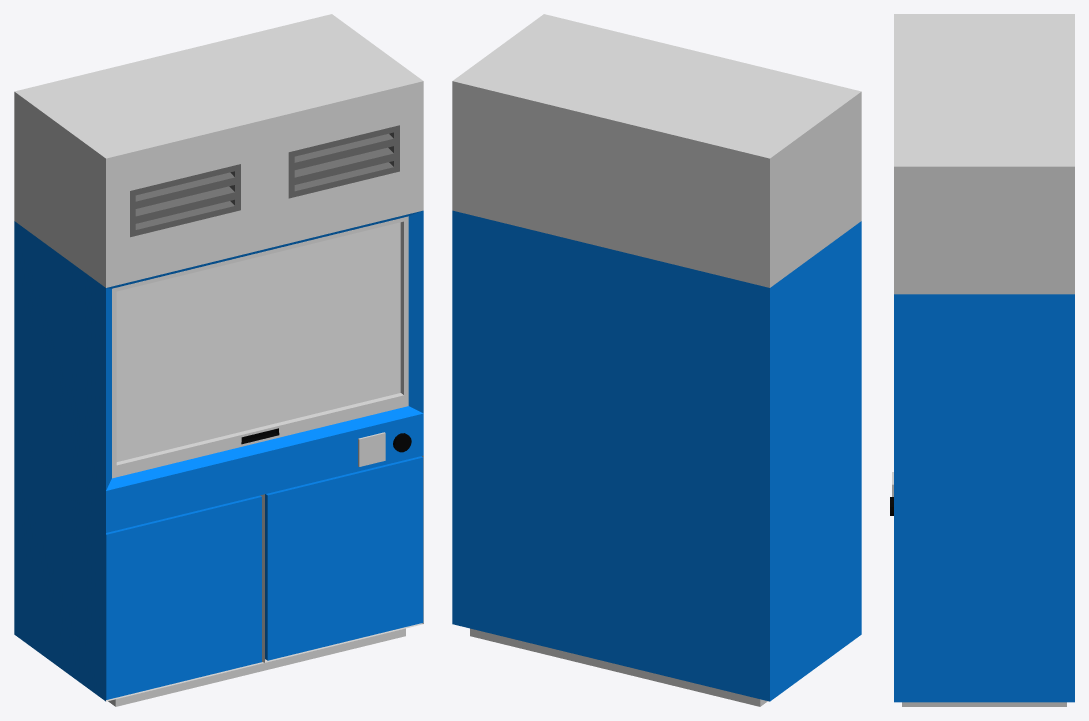
File: fume_room.fbx
The picture shows the model from 3 angles, left to right: view 1: azimuth 30°, elevation 25°; view 2: azimuth 150°, elevation 25°; view 3: azimuth 270°, elevation 25°; orthographic projection.
Parts seen in each view (by area): view 1: Kamar Asam, Kaca Pembatas, Pintu Kanan, Pintu Kiri, Saklar Ruang Asam; view 2: Kamar Asam; view 3: Kamar Asam.
Part boxes in pixels (x1,y1,x2,y2): Kamar Asam: (14, 14, 423, 706); Kaca Pembatas: (112, 216, 408, 478); Pintu Kanan: (265, 456, 423, 660); Pintu Kiri: (106, 495, 261, 699); Saklar Ruang Asam: (358, 432, 385, 466); Kamar Asam: (452, 14, 861, 706); Kamar Asam: (894, 14, 1074, 706).
Bounding box in the file's own units: 61.35 × 200 × 120.
